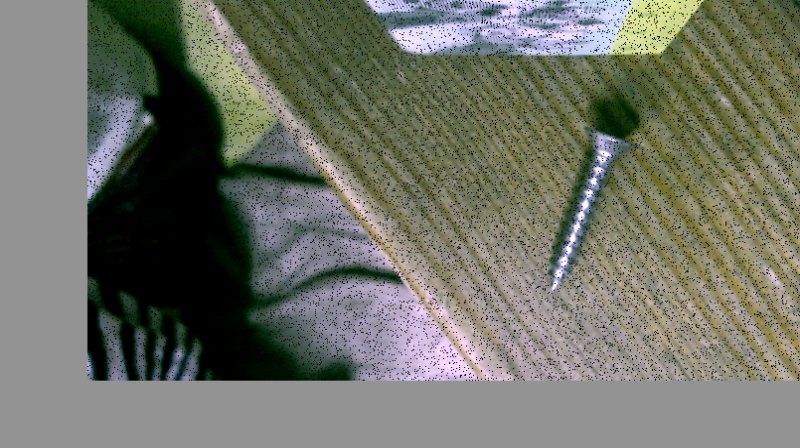S001: (539, 124, 643, 293)
